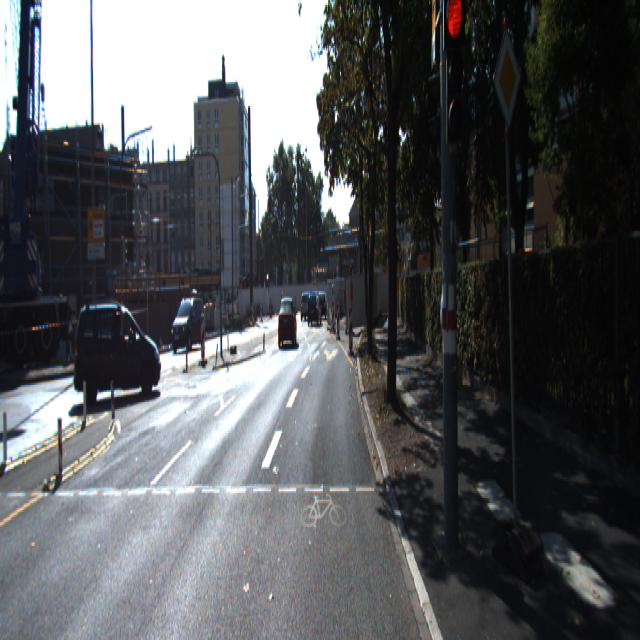Car: (74, 295, 164, 405), (170, 290, 205, 348), (277, 291, 296, 342), (307, 292, 322, 324)
